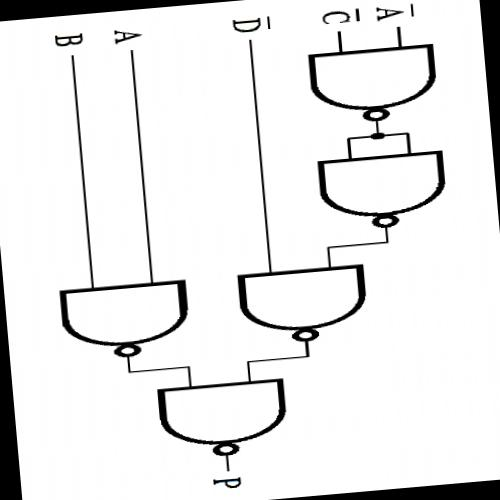nand: (302, 38, 450, 131), (52, 274, 198, 366), (229, 259, 376, 349), (149, 374, 297, 463), (311, 144, 457, 234)
